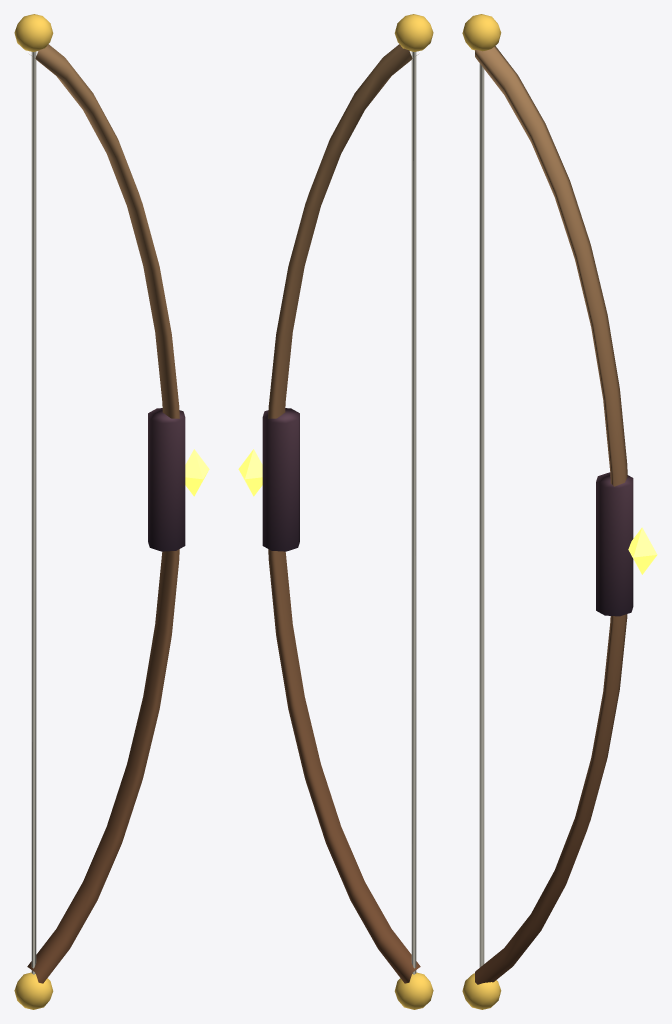
File: longbow_gilded.glb
3 renders of one model, left to right at view 1: azimuth 30°, elevation 25°; view 2: azimuth 150°, elevation 25°; view 3: azimuth 330°, elevation 25°, orthographic.
Visible parts, largest first — view 1: longbow_gilded; view 2: longbow_gilded; view 3: longbow_gilded.
Boxes of the visible parts, x1=… form: longbow_gilded: x1=14, y1=14, x2=209, y2=1009; longbow_gilded: x1=238, y1=14, x2=433, y2=1009; longbow_gilded: x1=462, y1=14, x2=657, y2=1009.
Bounding box in the file's own units: 0.2514 × 1.24 × 0.044.
